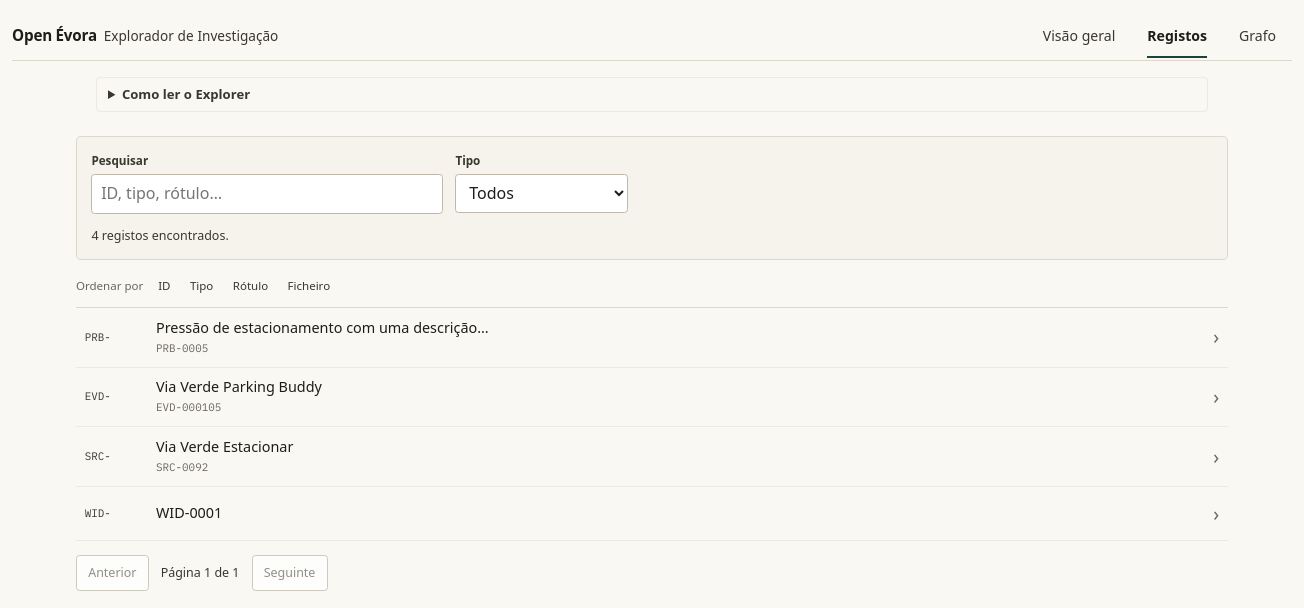
Test: Explorer — Records workflow (fake provider) › filters rows as the user types, case- and diacritic-insensitively
Expected: the button "PRB- Pressão de estacionamento com uma descrição… PRB-0005 ›" is shown, [76, 308, 1228, 368]
Type "PRESSAO" into the search field labelled "Pesquisar". click: (267, 194)
box: [91, 174, 443, 214]
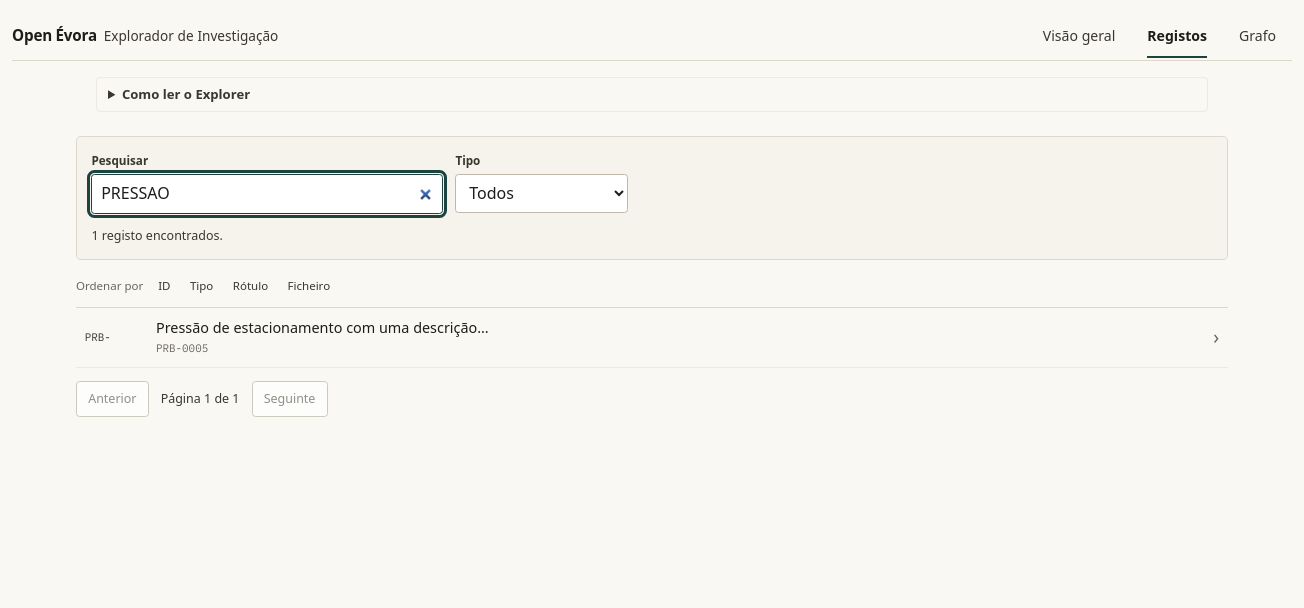
Expected: the button "PRB- Pressão de estacionamento com uma descrição… PRB-0005 ›" is shown, [76, 308, 1228, 368]
Now the button "EVD-000105" is gone
